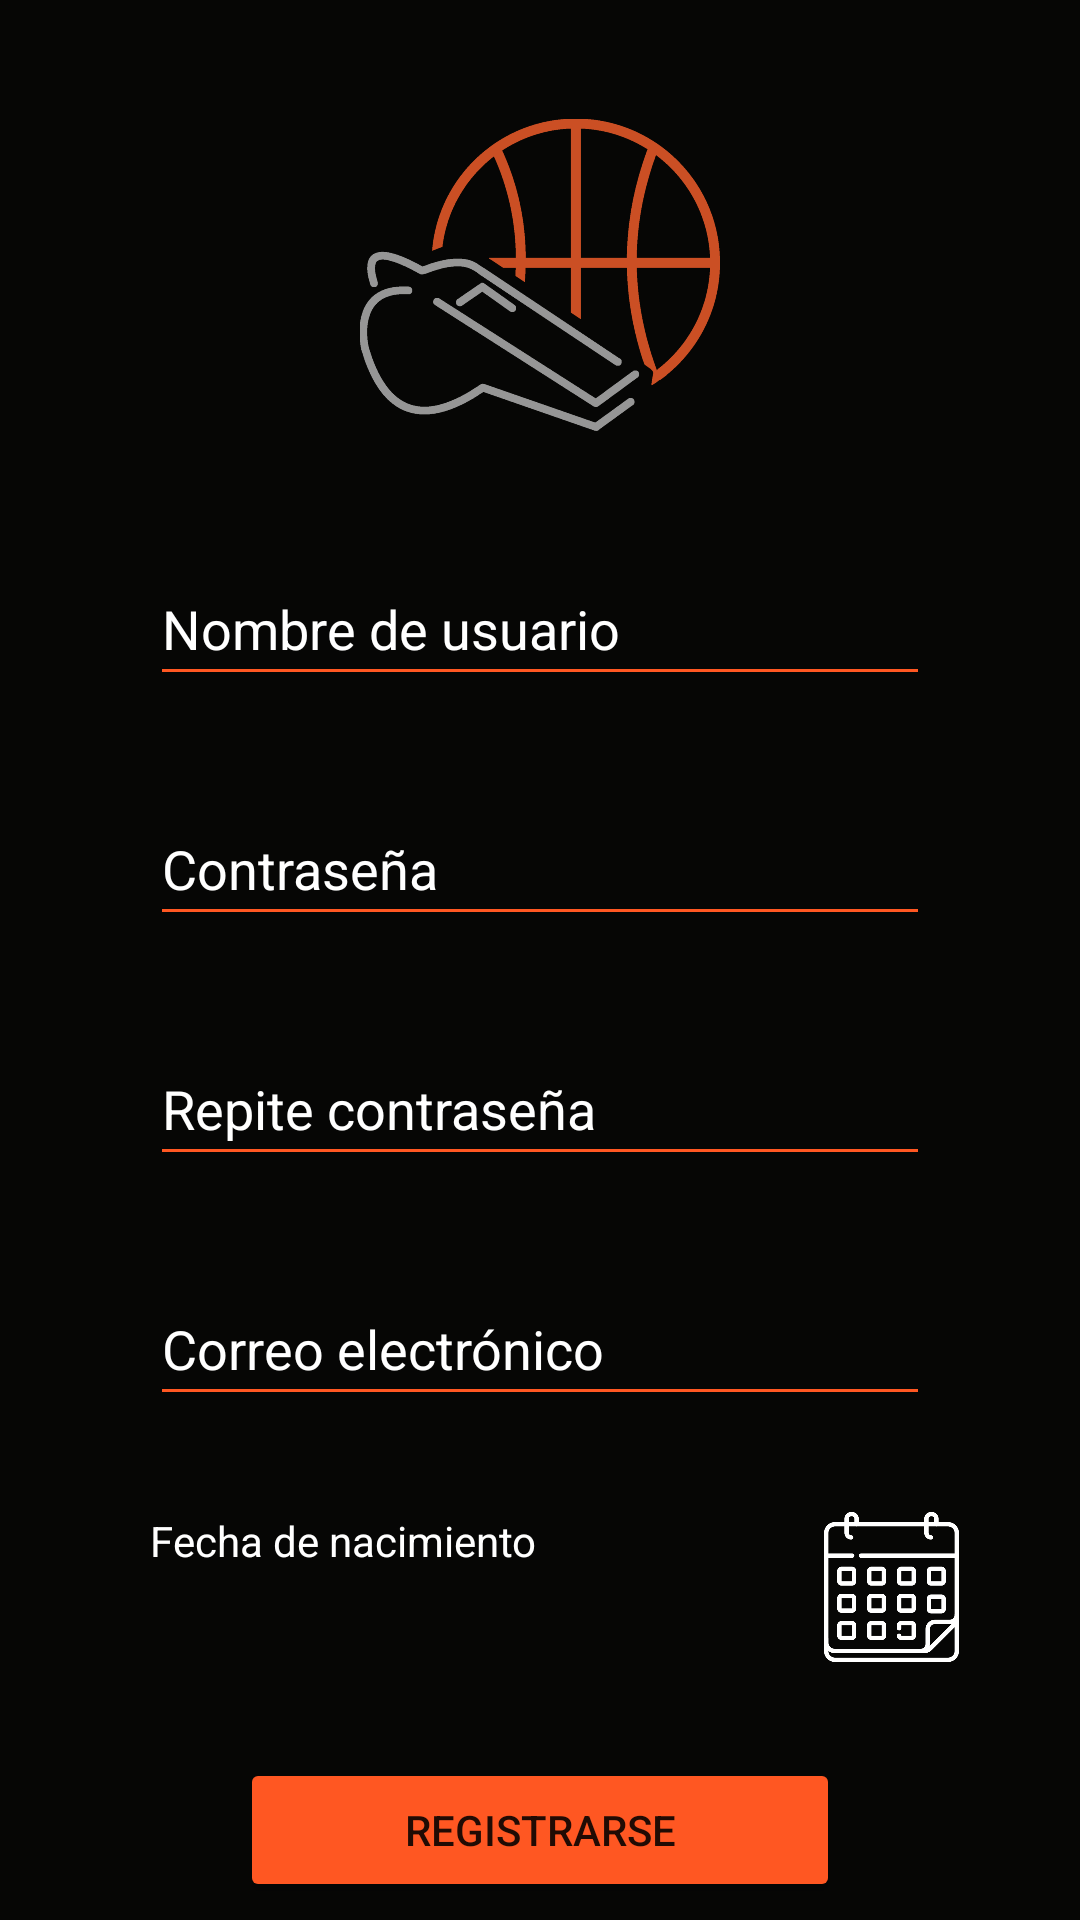

Named icons in this screenshot (1080 × 1920) and their centers, (x,y):
calendario: (891,1587)
